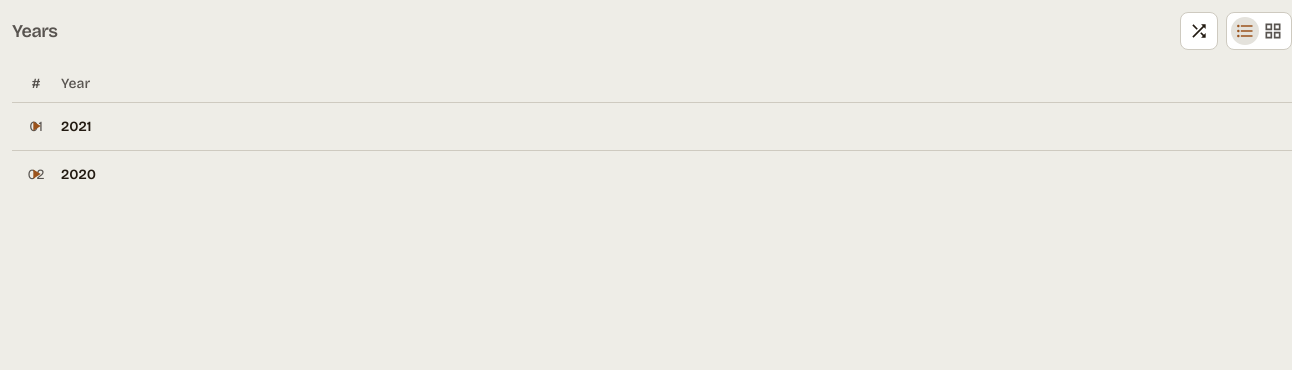
Test: Years › switches to grid view and loads album covers per year
The image size is (1292, 370).
Expected: the link "2021" is shown, top-left (61, 118), bottom-right (91, 134)
Click the button named "Grid view": (1273, 31) top-left (1259, 17), bottom-right (1287, 45)
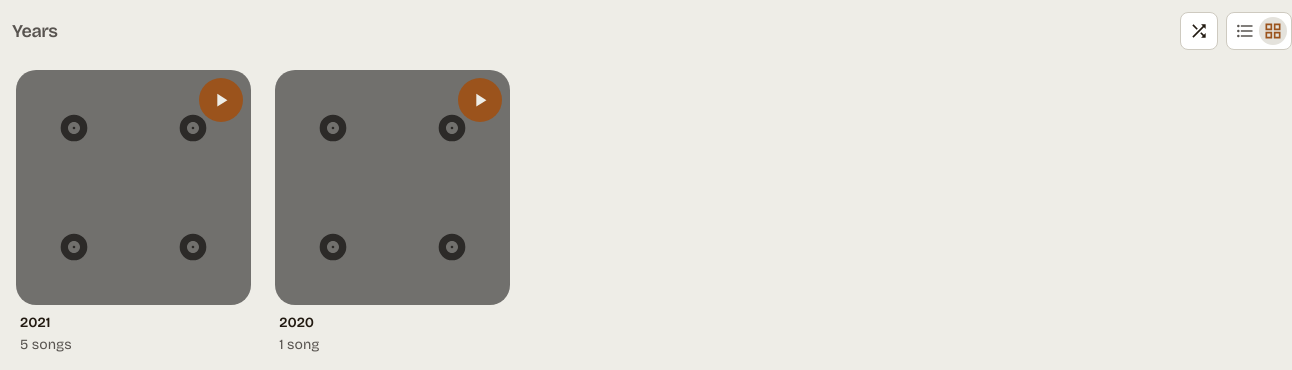
Expected: the text "5 songs" is shown, top-left (20, 336), bottom-right (72, 353)
Expected: the text "1 song" is shown, top-left (279, 336), bottom-right (319, 353)
